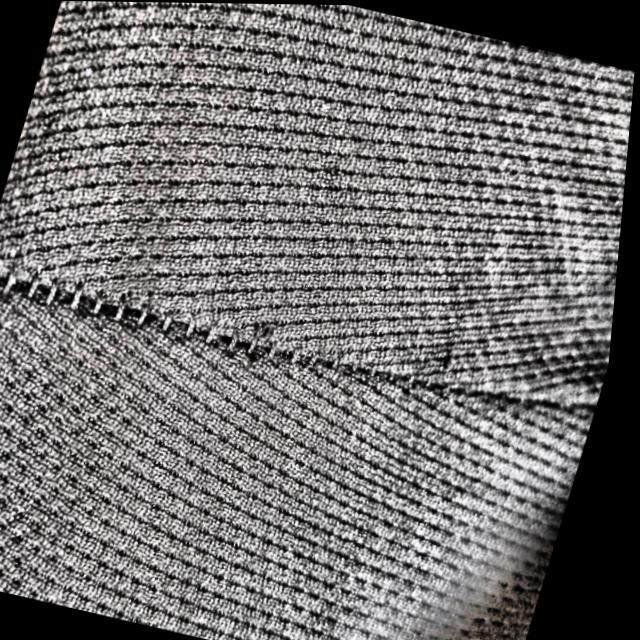seam: (0, 266, 601, 425)
